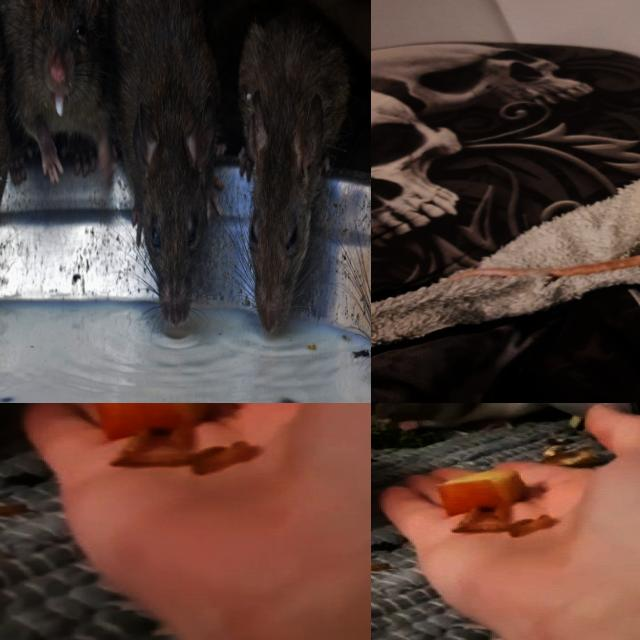rat: (228, 0, 359, 341), (95, 0, 226, 325), (0, 0, 120, 185), (371, 403, 584, 437)
